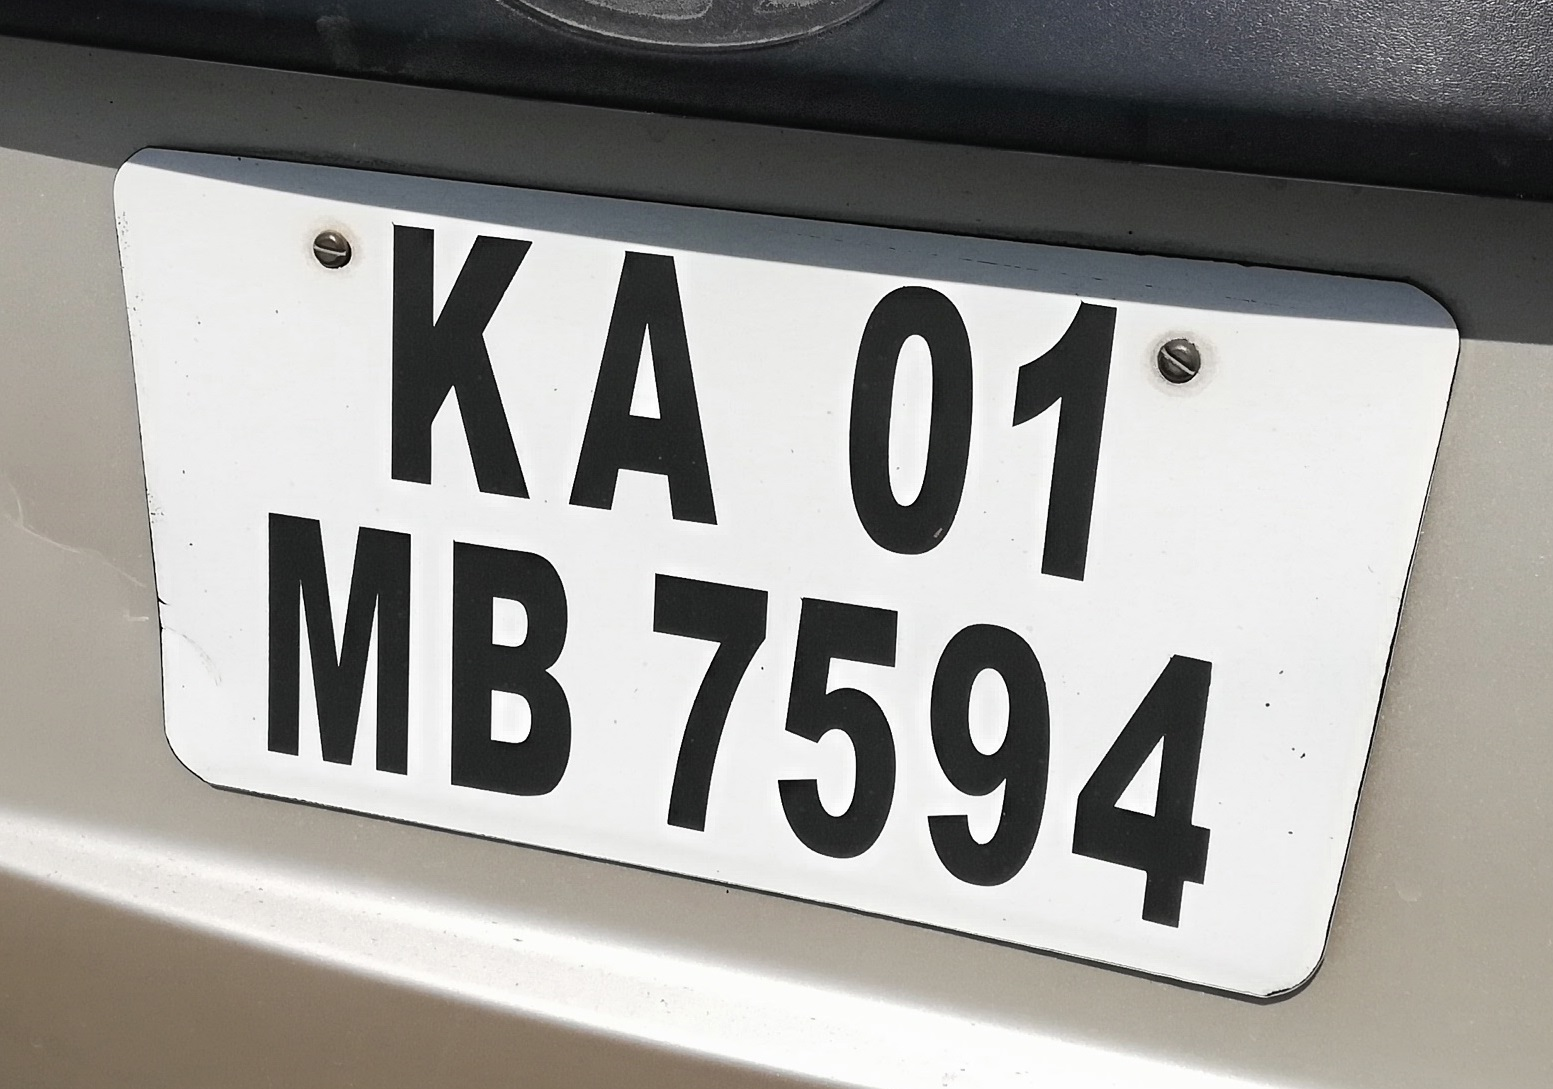doublelinenumberplate: (113, 137, 1468, 1002)
